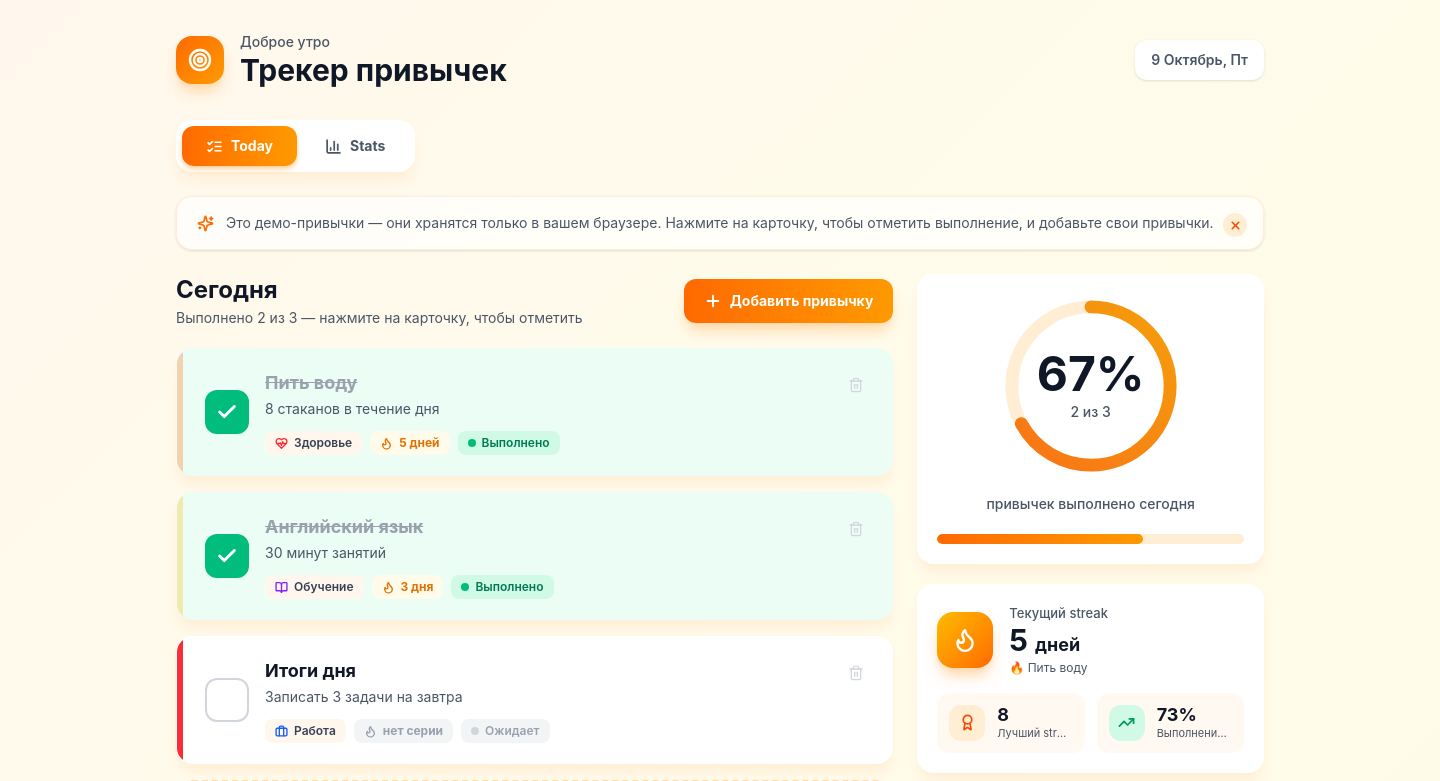
Scenario: Today — рендер › подсказку можно скрыть
Click the button named "Скрыть подсказку" at (1235, 225), box [1223,213,1247,237]
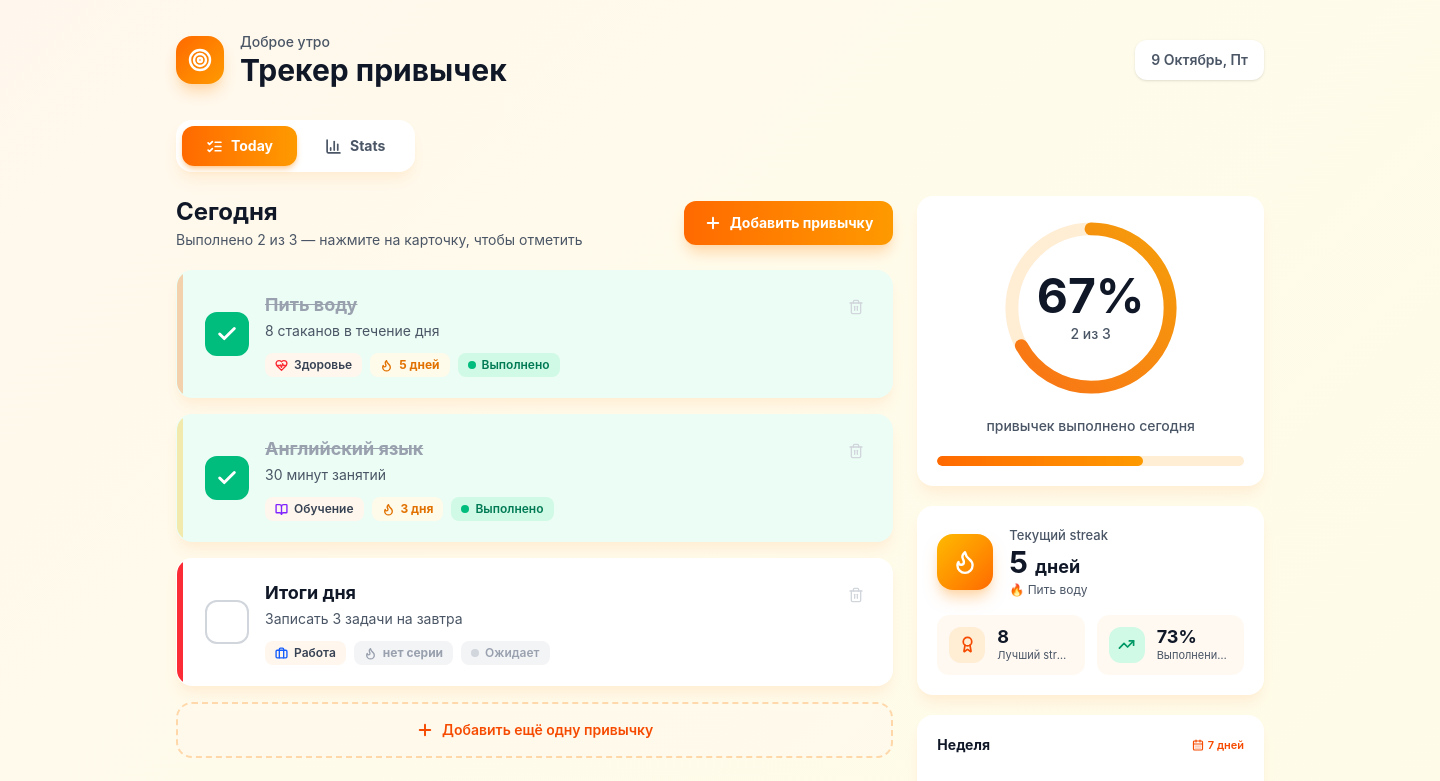
Expected: the text "демо-привычки" is gone
